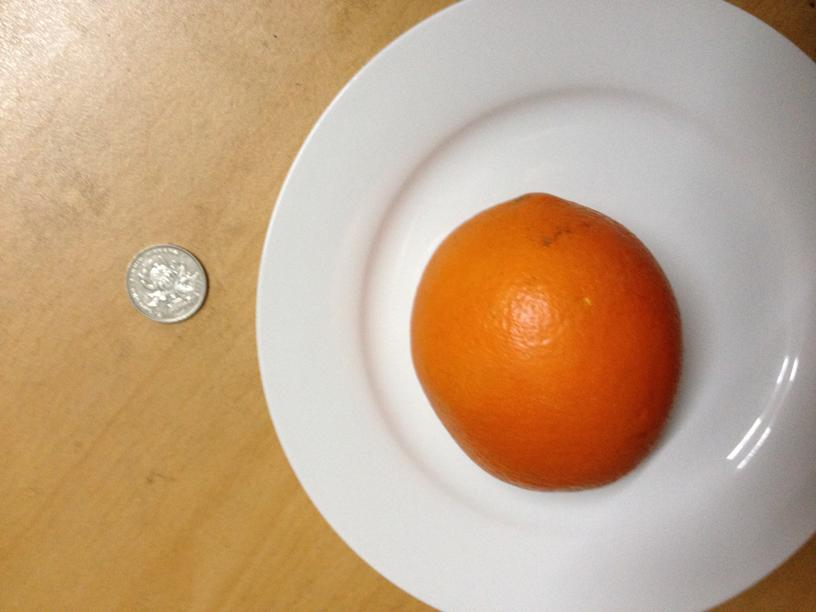coin: (122, 241, 208, 322)
orange: (411, 194, 679, 490)
